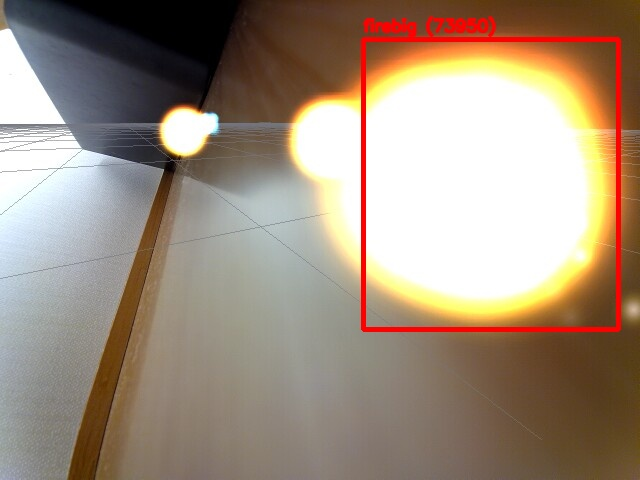firebig: (363, 39, 618, 329)
